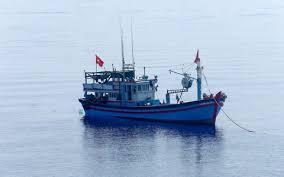Ship: (77, 49, 234, 133)
